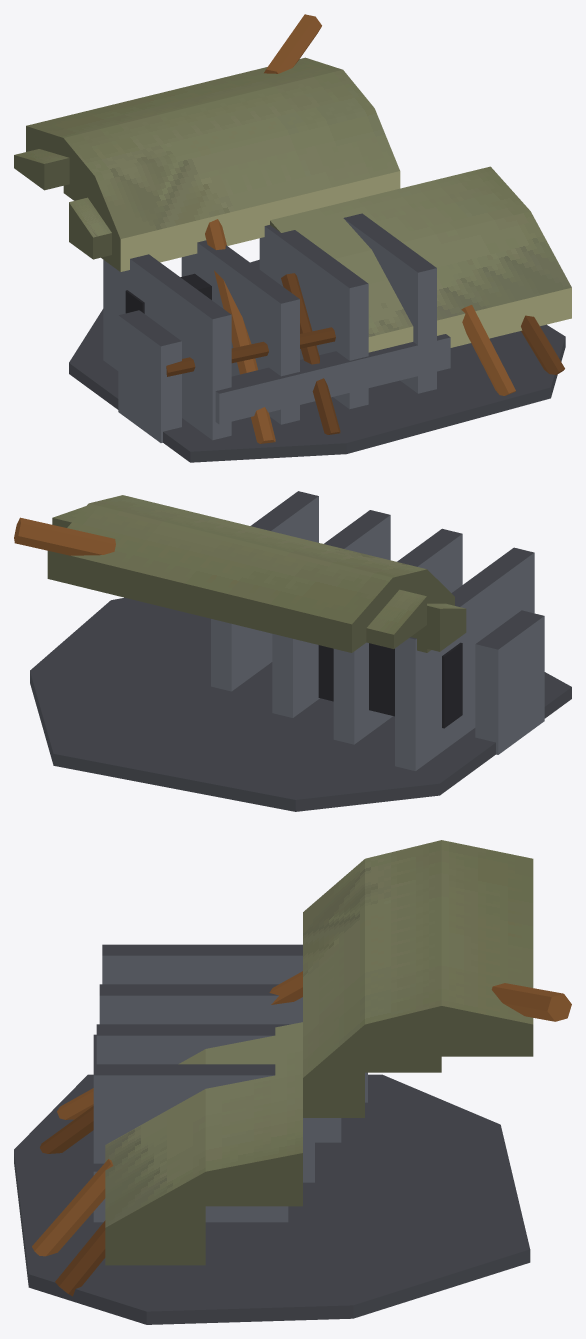
File: Building_ShipChunk.glb
3 renders of one model, top to bottom at view 1: azimuth 30°, elevation 25°; view 2: azimuth 150°, elevation 25°; view 3: azimuth 270°, elevation 25°, orthographic. The views are drawn at different scales.
Parts seen in each view (by area): view 1: ShipChunk; view 2: ShipChunk; view 3: ShipChunk.
Part boxes in pixels (x1=…): ShipChunk: x1=14, y1=14, x2=571, y2=462; ShipChunk: x1=14, y1=491, x2=571, y2=811; ShipChunk: x1=14, y1=840, x2=571, y2=1324.
Size of the model in its own units: 1.93 by 1.04 by 1.89.
Materials: 1 (1 with a texture image).
